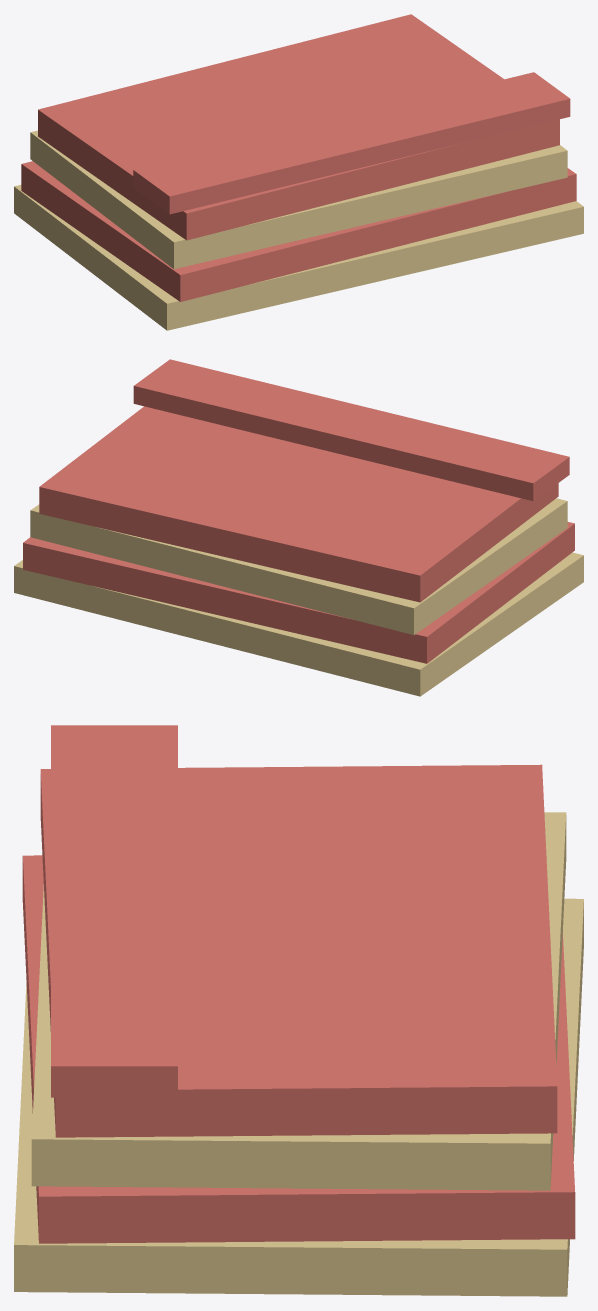
Rendered from andean-terraces-and-stone-village-folded-blanket-f8c8b36b__38270.glb.
3 renders of one model, top to bottom at view 1: azimuth 30°, elevation 25°; view 2: azimuth 150°, elevation 25°; view 3: azimuth 270°, elevation 25°, orthographic. The views are drawn at different scales.
Visible parts, largest first — view 1: folded-blanket-cloth, folded-blanket-thatch; view 2: folded-blanket-cloth, folded-blanket-thatch; view 3: folded-blanket-cloth, folded-blanket-thatch.
Part boxes in pixels (box(x1,y1,x2,y2)): folded-blanket-cloth: box(21, 14, 576, 301); folded-blanket-thatch: box(14, 130, 583, 330); folded-blanket-cloth: box(23, 359, 574, 663); folded-blanket-thatch: box(14, 498, 583, 696); folded-blanket-cloth: box(22, 725, 575, 1243); folded-blanket-thatch: box(14, 812, 583, 1296).
Size of the model in its own units: 0.7295 by 0.2135 by 0.4943.
